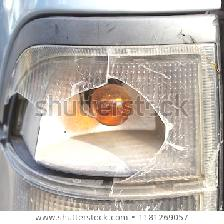tail_lamp: (9, 49, 209, 198)
